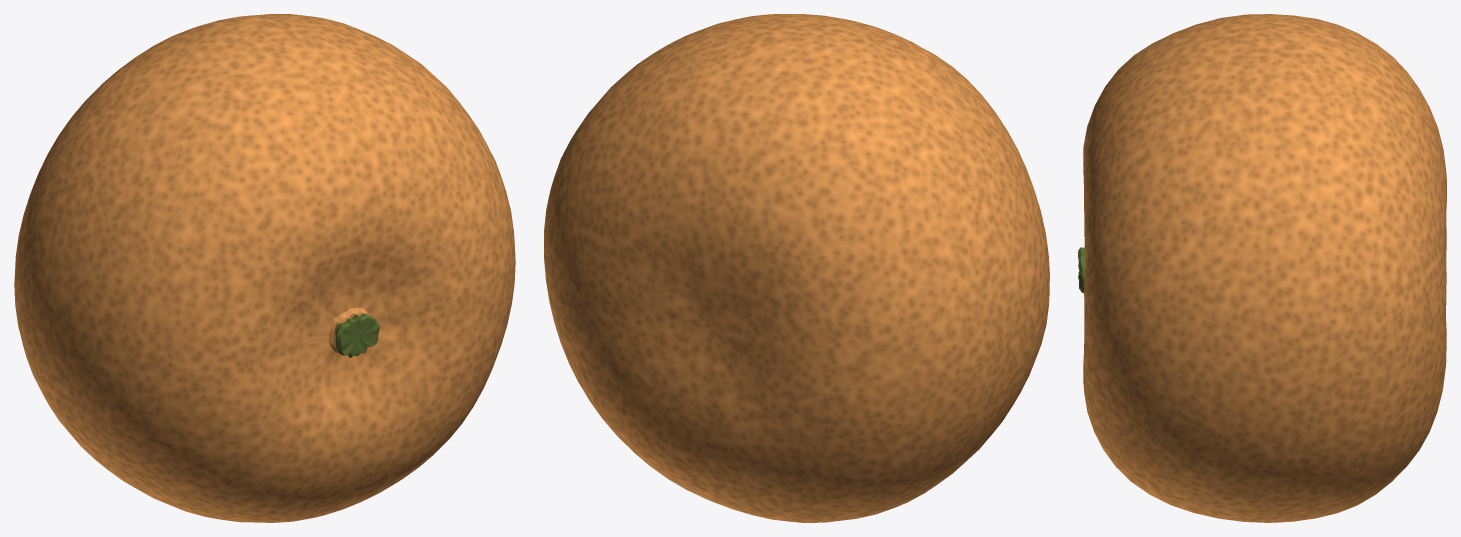
3 renders of one model, left to right at view 1: azimuth 30°, elevation 25°; view 2: azimuth 150°, elevation 25°; view 3: azimuth 270°, elevation 25°, orthographic.
Visible parts, largest first — view 1: mikan_0; view 2: mikan_0; view 3: mikan_0.
Part boxes in pixels (left/top/right/bottom): mikan_0: left=14, top=14, right=515, bottom=522; mikan_0: left=544, top=14, right=1049, bottom=522; mikan_0: left=1078, top=14, right=1446, bottom=522.
Size of the model in its own units: 0.0449 by 0.045 by 0.0324.
2 materials, 1 textured.
